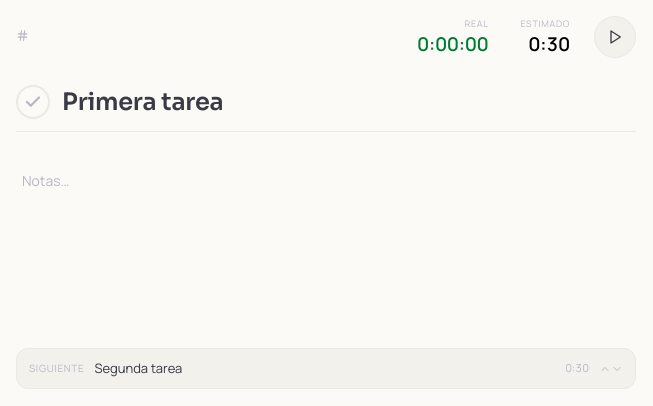
FocusView › al marcar el check completa y pasa sola a la siguiente
This screenshot has width=653, height=406.
Expected: the heading "Primera tarea" is shown, [62, 87, 224, 117]
Click the button named "Completar tarea" at {"x": 33, "y": 102}, box [16, 85, 50, 119]
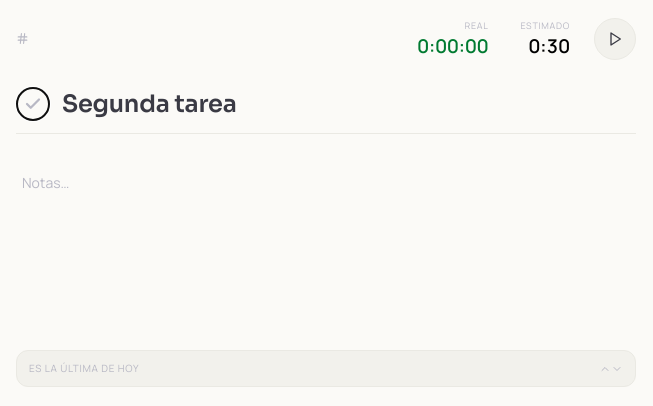
Now the heading "Segunda tarea" is shown, box [62, 89, 237, 119]
